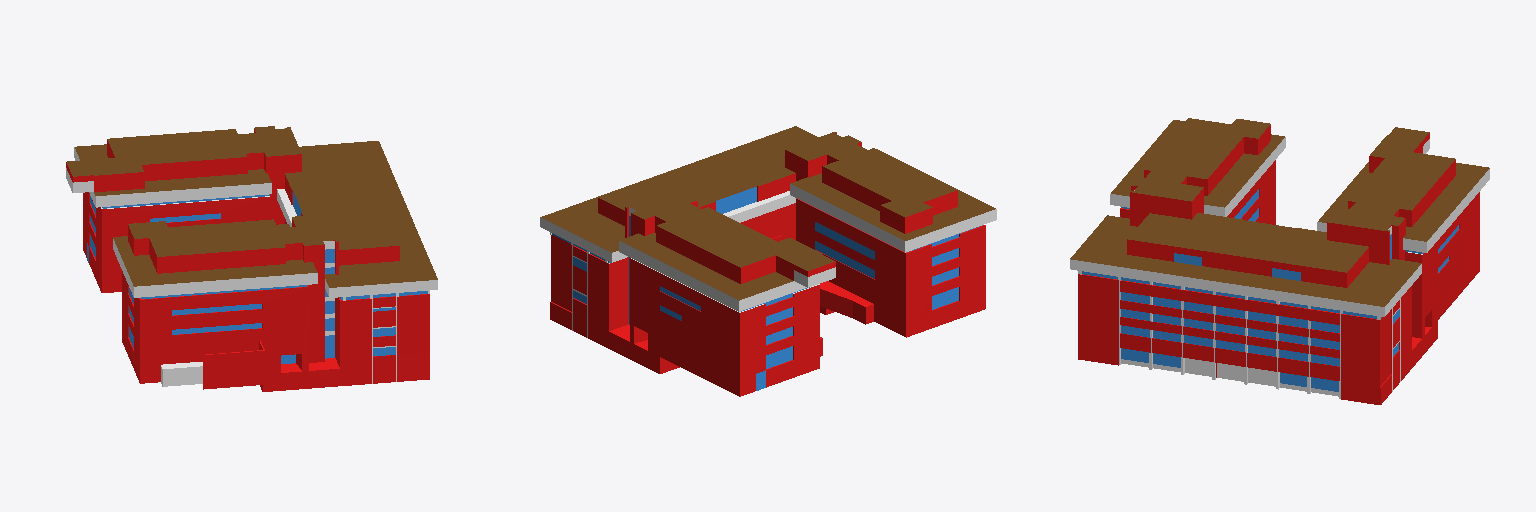
File: FineArts.obj
The picture shows the model from 3 angles: view 1: azimuth 30°, elevation 25°; view 2: azimuth 150°, elevation 25°; view 3: azimuth 270°, elevation 25°; orthographic projection.
Visible parts, largest first — view 1: SM_FineArts_Bldg01, SM_FineArts_Wndws; view 2: SM_FineArts_Bldg01, SM_FineArts_Wndws; view 3: SM_FineArts_Bldg01, SM_FineArts_Wndws.
Boxes of the visible parts, <box> form: SM_FineArts_Bldg01: <box>66,126,437,391</box>; SM_FineArts_Wndws: <box>87,128,427,363</box>; SM_FineArts_Bldg01: <box>540,126,996,396</box>; SM_FineArts_Wndws: <box>552,207,982,390</box>; SM_FineArts_Bldg01: <box>1070,118,1489,404</box>; SM_FineArts_Wndws: <box>1082,189,1458,396</box>.
Bounding box in the file's own units: 8063 × 2972 × 8376.